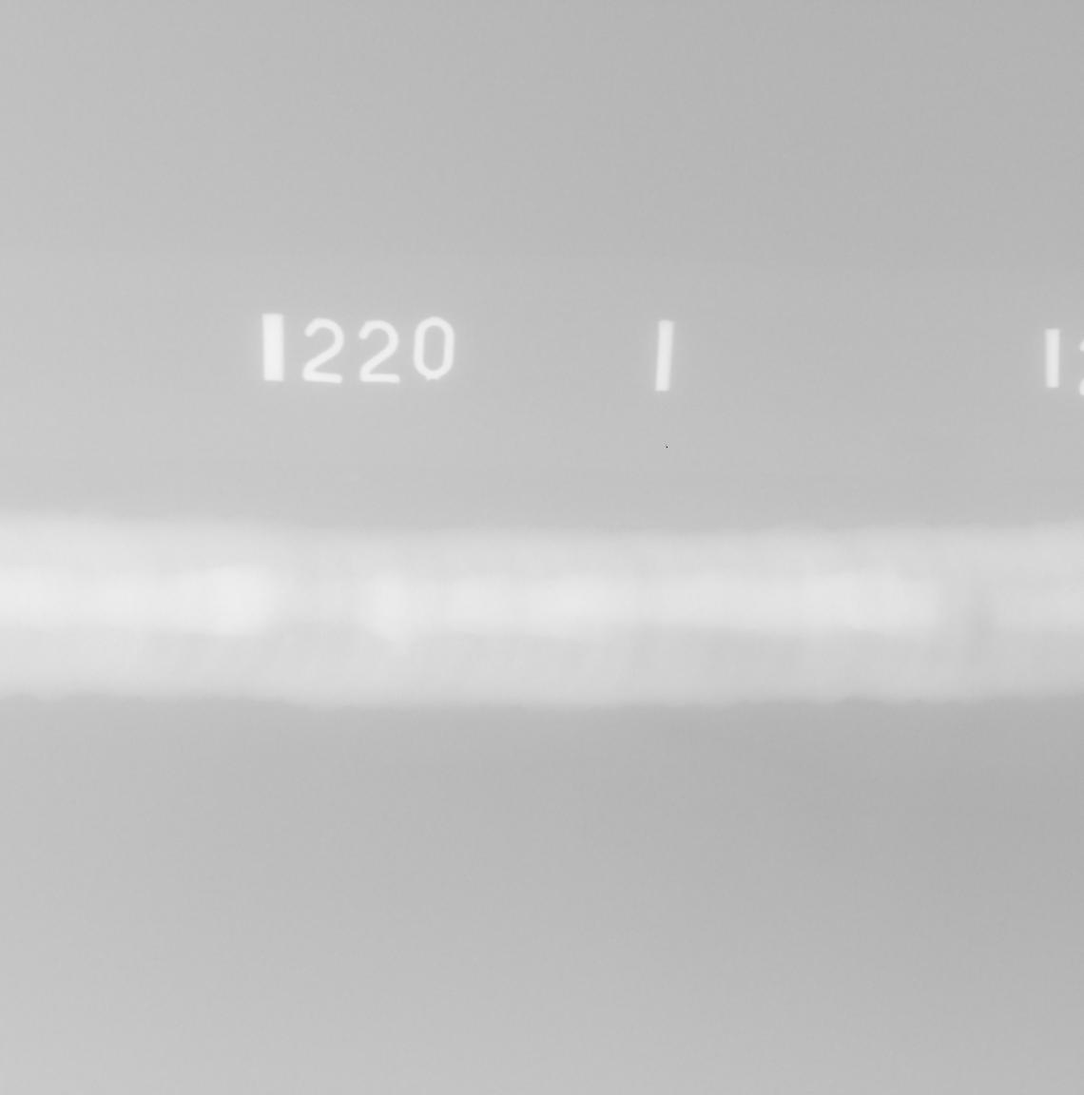Pore/Porosity: (1022, 632, 1028, 636), (1069, 588, 1075, 591), (947, 620, 951, 624), (1069, 626, 1072, 629)
